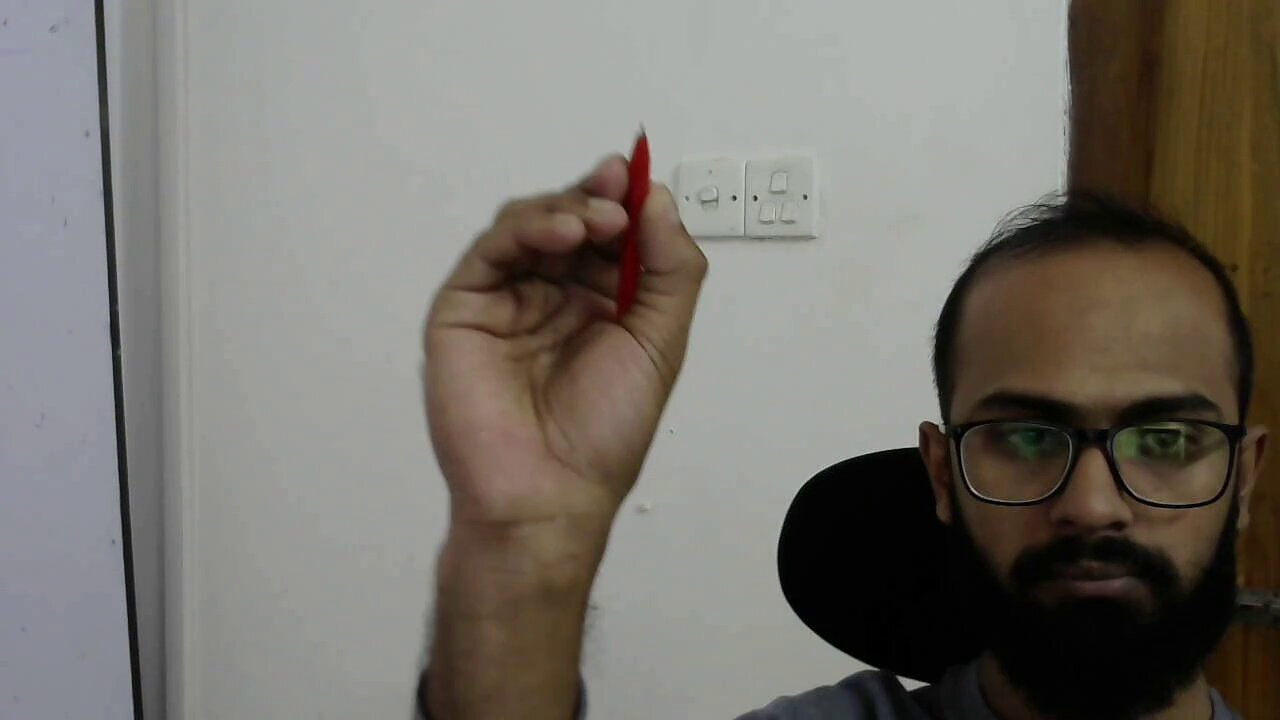pointer: (424, 147, 707, 441)
